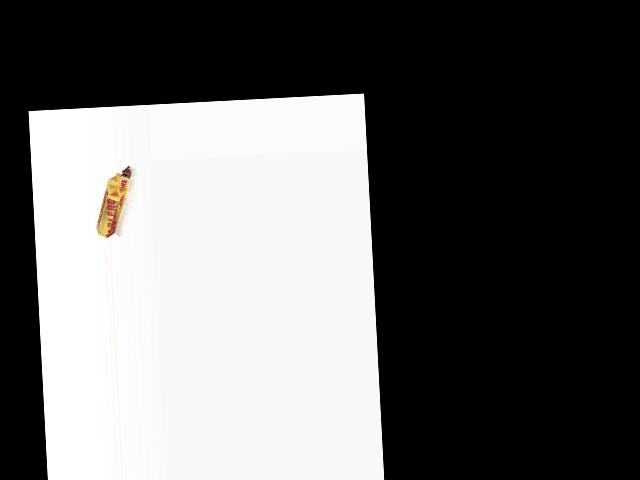chocolate: (92, 165, 137, 237)
